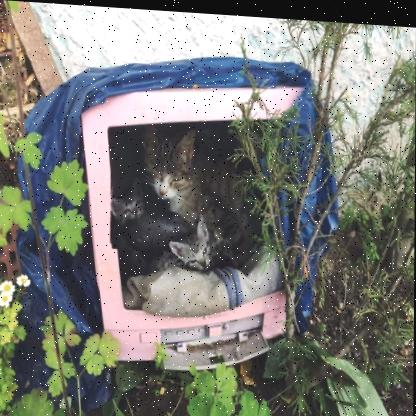cat: (139, 126, 262, 256), (110, 167, 193, 254), (153, 211, 214, 275)
